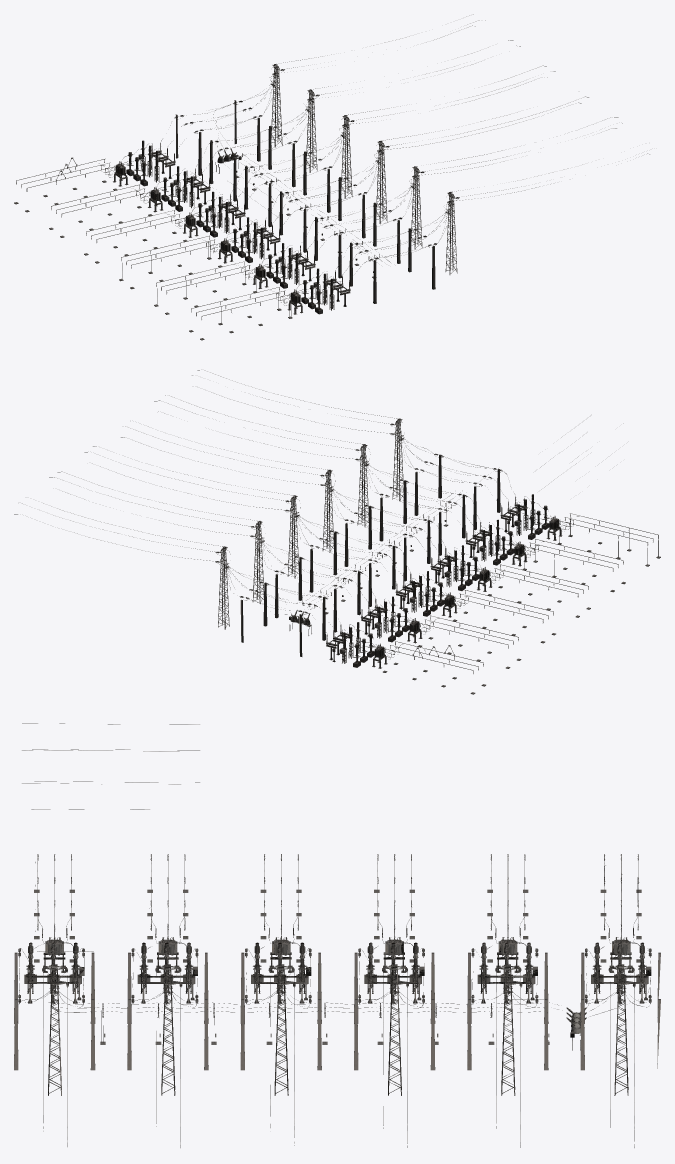
Rendered from SM_SubstationSwitchgear.glb.
3 renders of one model, top to bottom at view 1: azimuth 30°, elevation 25°; view 2: azimuth 150°, elevation 25°; view 3: azimuth 270°, elevation 25°, orthographic. The views are drawn at different scales.
Visible parts, largest first — view 1: SM_SubstationSwitchgear; view 2: SM_SubstationSwitchgear; view 3: SM_SubstationSwitchgear.
Part boxes in pixels (<box>): SM_SubstationSwitchgear: <box>14,14,649,340</box>; SM_SubstationSwitchgear: <box>14,370,660,694</box>; SM_SubstationSwitchgear: <box>14,723,660,1147</box>.
Size of the model in its own units: 3102 by 788 by 2321.
1 material, 1 textured.
